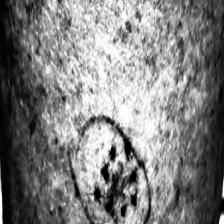Benign Marking or Mole: (69, 107, 162, 224)
